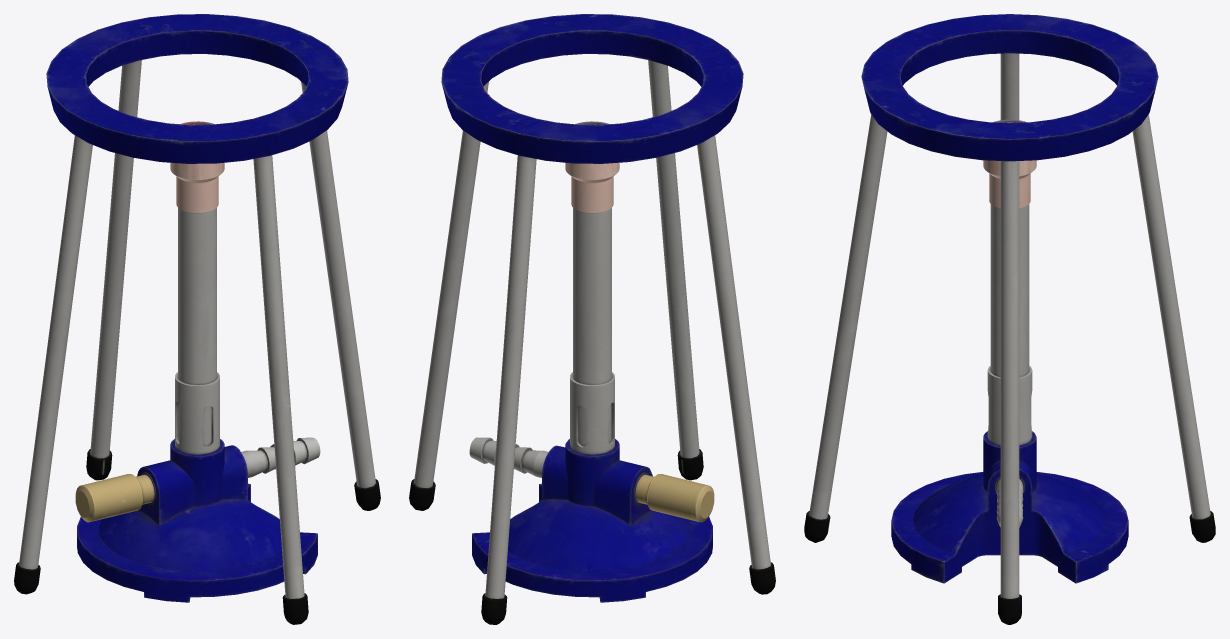
File: bunsen_burner.glb
3 views of the same model, side by side, from view 1: azimuth 30°, elevation 25°; view 2: azimuth 150°, elevation 25°; view 3: azimuth 270°, elevation 25° (orthographic).
Parts seen in each view (by area): view 1: bunsen_burner; view 2: bunsen_burner; view 3: bunsen_burner.
Part boxes in pixels (box(x1,y1,x2,y2)): bunsen_burner: box(14, 14, 380, 624); bunsen_burner: box(409, 14, 775, 624); bunsen_burner: box(804, 14, 1215, 624).
Bounding box in the file's own units: 0.1388 × 0.1731 × 0.1388.
Materials: 1 (1 with a texture image).
